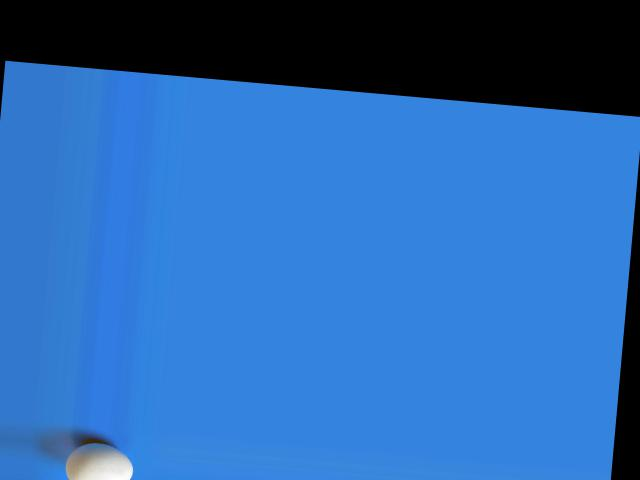egg: (62, 439, 135, 480)
